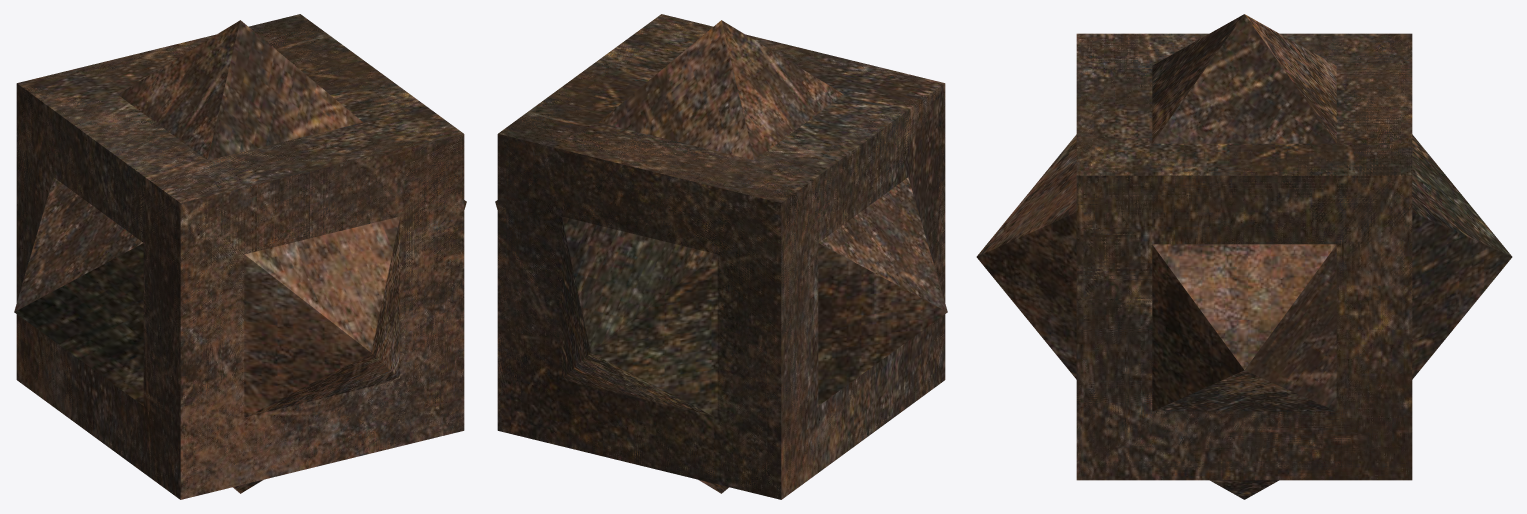
Rendered from Pincho.fbx.
The picture shows the model from 3 angles, left to right: view 1: azimuth 30°, elevation 25°; view 2: azimuth 150°, elevation 25°; view 3: azimuth 270°, elevation 25°; orthographic projection. The views are drawn at different scales.
Parts seen in each view (by area): view 1: Cube; view 2: Cube; view 3: Cube.
Boxes of the visible parts, bbox=[...] form: Cube: bbox=[14, 14, 466, 499]; Cube: bbox=[495, 14, 947, 499]; Cube: bbox=[976, 14, 1512, 499].
Size of the model in its own units: 319 by 319 by 319.
1 material, 1 textured.
